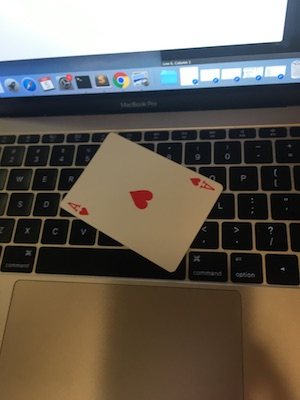AceOfHearts: (56, 132, 225, 273)
